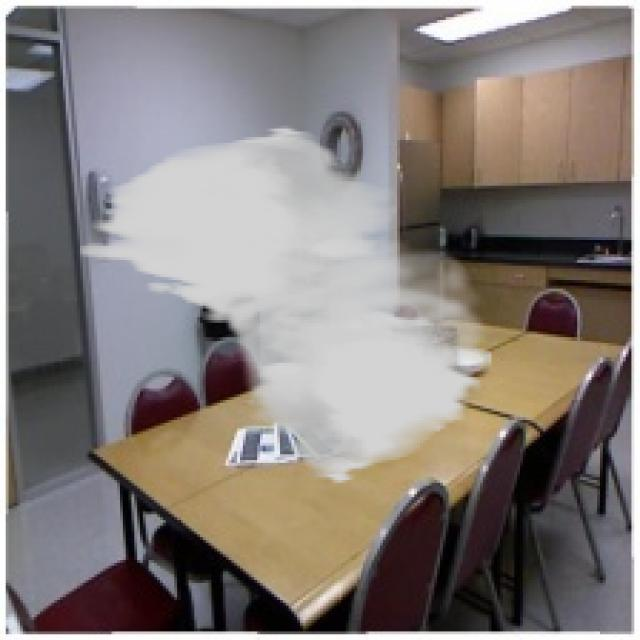smoke: (80, 126, 494, 486)
